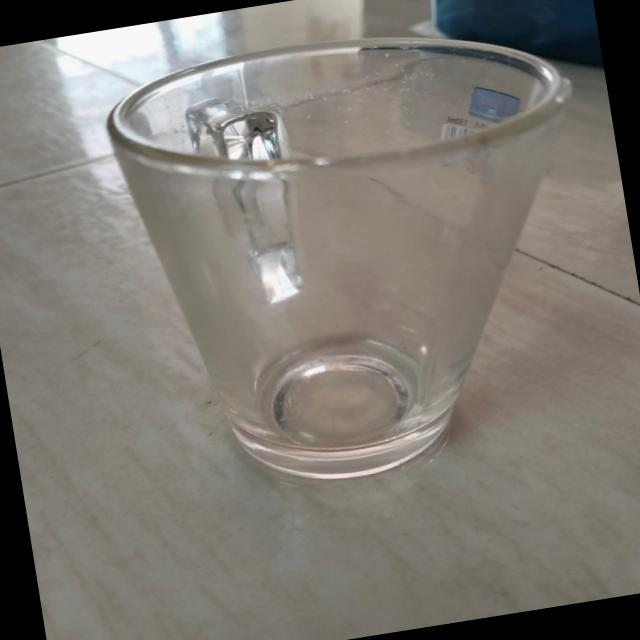glass-VX4N: (94, 6, 628, 512)
